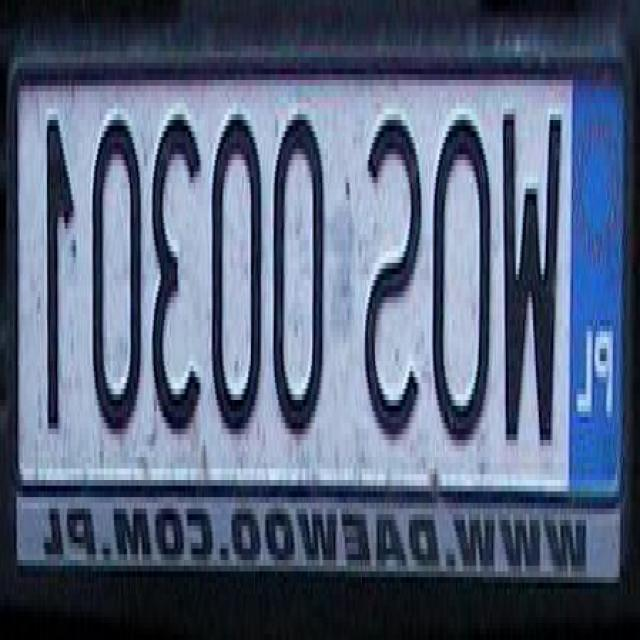pl_license_plate: (20, 57, 627, 474)
